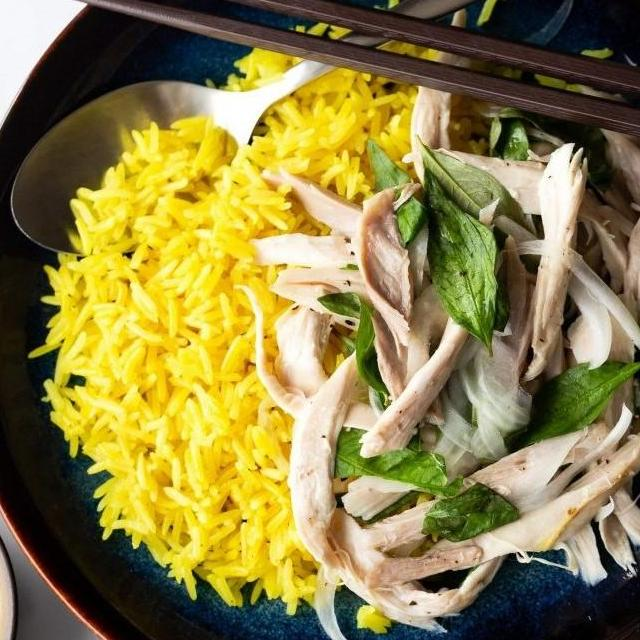com: (22, 104, 330, 620), (208, 2, 451, 212)
com ga: (0, 0, 640, 640)
rau ram: (362, 128, 540, 362), (324, 420, 522, 546), (508, 273, 640, 452), (318, 287, 400, 408)
thit ga: (228, 161, 640, 639), (406, 5, 640, 386)
